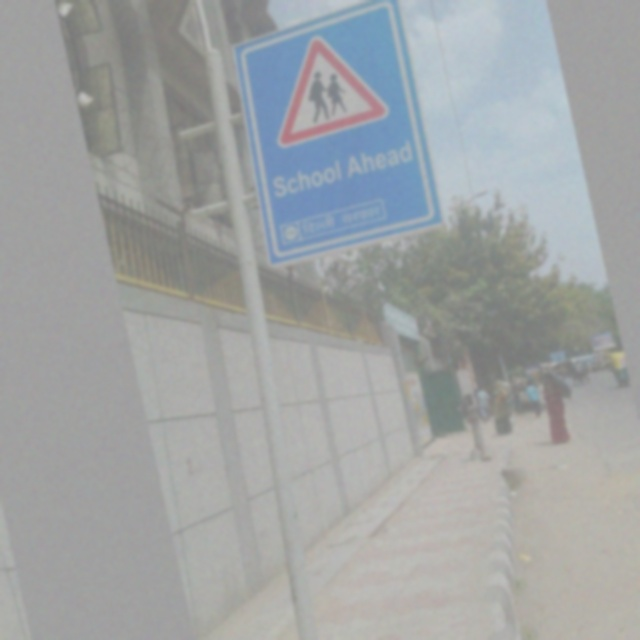School_Ahead: (252, 21, 405, 154)
